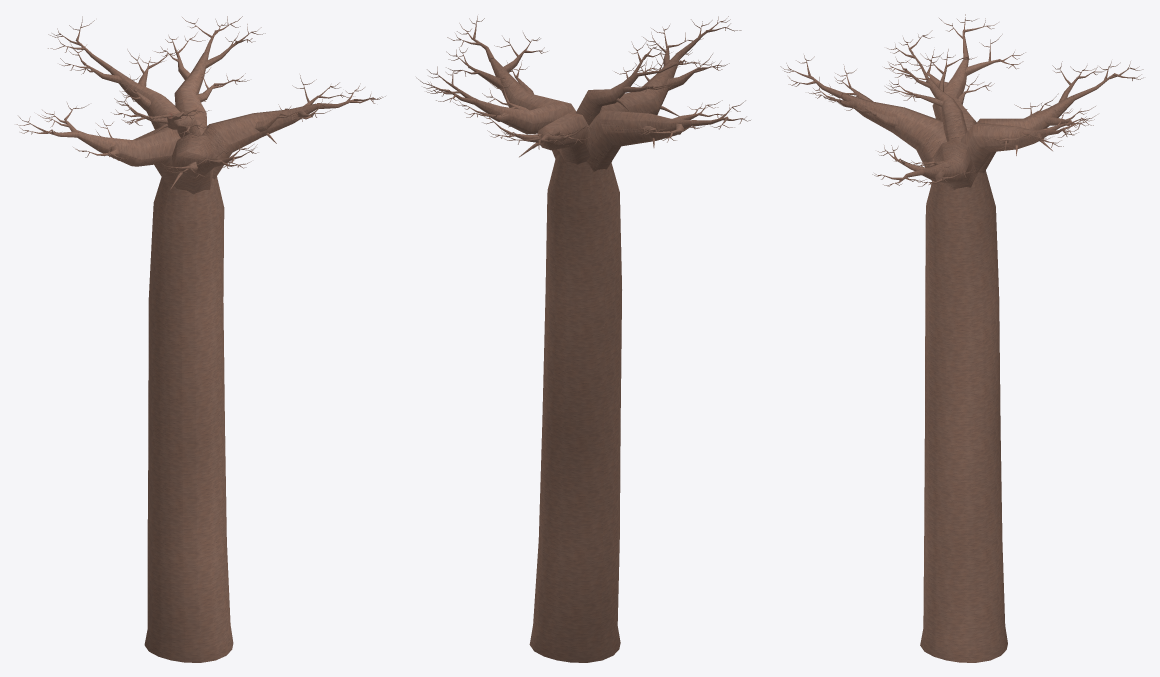
File: Baoba_06_Grandidieri_Candelabro_Seco.glb
The picture shows the model from 3 angles, left to right: view 1: azimuth 30°, elevation 25°; view 2: azimuth 150°, elevation 25°; view 3: azimuth 270°, elevation 25°; orthographic projection. The views are drawn at different scales.
Parts seen in each view (by area): view 1: Tronco, Bracos principais, Ramos secundarios, Ponteiras, Ramos finos; view 2: Tronco, Bracos principais, Ramos secundarios, Ponteiras, Ramos finos; view 3: Tronco, Bracos principais, Ramos secundarios, Ponteiras, Ramos finos.
Boxes of the visible parts, x1,y1,x2,y2 form: Tronco: [144, 176, 233, 662]; Bracos principais: [77, 52, 317, 194]; Ramos secundarios: [45, 31, 353, 172]; Ponteiras: [16, 16, 385, 177]; Ramos finos: [28, 24, 371, 174]; Tronco: [529, 153, 621, 662]; Bracos principais: [474, 54, 690, 171]; Ramos secundarios: [449, 31, 725, 143]; Ponteiras: [416, 16, 750, 149]; Ramos finos: [432, 21, 741, 143]; Tronco: [920, 170, 1007, 662]; Bracos principais: [840, 58, 1075, 189]; Ramos secundarios: [809, 31, 1113, 180]; Ponteiras: [780, 14, 1143, 186]; Ramos finos: [791, 20, 1131, 183].
Size of the model in its own units: 17.13 by 28.88 by 16.79.
1 material, 1 textured.
